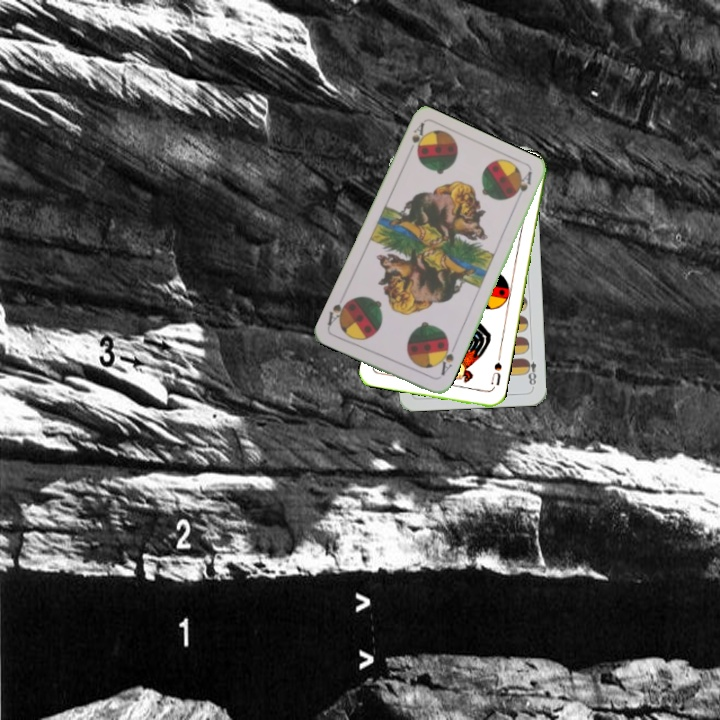E8: (521, 349, 539, 390)
SA: (434, 340, 458, 378), (408, 120, 430, 157)
SU: (487, 352, 505, 388)
